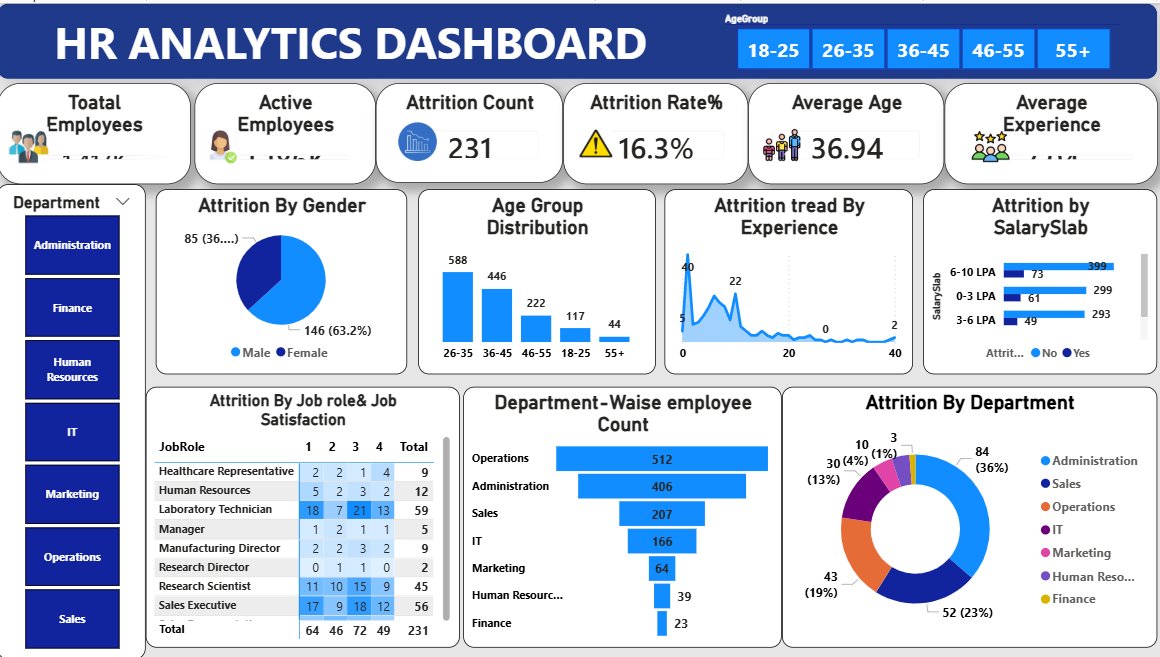

Layout of this report page (visuals, bound fields, positions):
{"tool":"powerbi","page":{"name":"Page 1","canvas":[1280,720],"ordinal":0},"visuals":[{"type":"textbox","box":[0,0,1274.3,84.3],"z":0},{"type":"cardVisual","title":"Toatal Employees","fields":{"Data":["CountNonNull(HR_Analytics-4.EmpID)"]},"box":[0,87.8,212.7,111.1],"z":1000},{"type":"cardVisual","title":"Active Employees","fields":{"Data":["CountNonNull(HR_Analytics-4.EmployeeCount)"]},"box":[216.8,87.8,199,111.1],"z":2000},{"type":"cardVisual","title":"Attrition Count","fields":{"Data":["Sum(HR_Analytics-4.attritionCount)"]},"box":[415.8,87.8,205.8,109.8],"z":3000},{"type":"cardVisual","title":"Attrition Rate%","fields":{"Data":["HR_Analytics-4.Attrition Rate%"]},"box":[621.6,87.8,203.1,111.1],"z":4000},{"type":"cardVisual","title":"Average Age","fields":{"Data":["Avg(HR_Analytics-4.Age)"]},"box":[824.7,87.8,215.4,111.1],"z":5000},{"type":"cardVisual","title":"Average Experience","fields":{"Data":["Avg(HR_Analytics-4.YearsatCompany)"]},"box":[1040,87.1,234.3,111.4],"z":6000},{"type":"image","box":[9.6,135.8,50.8,43.9],"z":7000},{"type":"image","box":[226.4,140,43.9,35.7],"z":8000},{"type":"image","box":[1058,137.2,65.9,41.2],"z":9000},{"type":"image","box":[639.5,135.8,35.7,37],"z":10000},{"type":"image","box":[841.2,133.1,41.2,45.3],"z":11000},{"type":"image","box":[440.5,126.2,42.5,52.1],"z":12000},{"type":"donutChart","title":"Attrition By Department","fields":{"Category":["HR_Analytics-4.Department"],"Y":["Sum(HR_Analytics-4.attritionCount)"]},"box":[861.8,421.3,411.7,286.8],"z":13000},{"type":"clusteredBarChart","title":"Attrition by SalarySlab","fields":{"Category":["HR_Analytics-4.SalarySlab"],"Y":["CountNonNull(HR_Analytics-4.EmpID)"],"Series":["HR_Analytics-4.Attrition"]},"box":[1016.8,204.5,256.6,203.1],"z":14000},{"type":"pivotTable","title":"Attrition By Job role& Job  Satisfaction","fields":{"Rows":["HR_Analytics-4.JobRole"],"Columns":["HR_Analytics-4.JobSatisfaction"],"Values":["Sum(HR_Analytics-4.attritionCount)"]},"box":[163.3,421.3,344.4,286.8],"z":15000},{"type":"columnChart","title":"Age Group  Distribution","fields":{"Category":["HR_Analytics-4.AgeGroup"],"Y":["Sum(HR_Analytics-4.EmployeeCount)"]},"box":[462.4,204.5,260.7,203.1],"z":16000},{"type":"pieChart","title":" Attrition By Gender","fields":{"Category":["HR_Analytics-4.Gender"],"Y":["Sum(HR_Analytics-4.attritionCount)"]},"box":[174.3,204.5,275.8,203.1],"z":17000},{"type":"areaChart","title":"Attrition tread By Experience","fields":{"Category":["HR_Analytics-4.TotalExperience(Years)"],"Y":["Sum(HR_Analytics-4.attritionCount)"]},"box":[732.8,204.5,273.1,203.1],"z":18000},{"type":"funnel","title":"Department-Waise employee Count","fields":{"Category":["HR_Analytics-4.Department"],"Y":["CountNonNull(HR_Analytics-4.EmpID)"]},"box":[511.8,421.3,349.9,286.8],"z":19000},{"type":"slicer","fields":{"Values":["HR_Analytics-4.Department"]},"box":[0,199,163.3,521.4],"z":20000},{"type":"slicer","fields":{"Values":["HR_Analytics-4.AgeGroup"]},"box":[786.3,5.5,459.7,74.1],"z":21000}]}

Visuals, with their boxes in screenshot pixels (x1, y1, x2, y2), scaled from the page's 1280x720 canvas onto the 1160x657 screenshot:
textbox: region(0, 0, 1155, 77)
"Toatal Employees" cardVisual: region(0, 80, 193, 181)
"Active Employees" cardVisual: region(196, 80, 377, 181)
"Attrition Count" cardVisual: region(377, 80, 563, 180)
"Attrition Rate%" cardVisual: region(563, 80, 747, 181)
"Average Age" cardVisual: region(747, 80, 943, 181)
"Average Experience" cardVisual: region(942, 79, 1155, 181)
image: region(9, 124, 55, 164)
image: region(205, 128, 245, 160)
image: region(959, 125, 1019, 163)
image: region(580, 124, 612, 158)
image: region(762, 121, 800, 163)
image: region(399, 115, 438, 163)
"Attrition By Department" donutChart: region(781, 384, 1154, 646)
"Attrition by SalarySlab" clusteredBarChart: region(921, 187, 1154, 372)
"Attrition By Job role& Job  Satisfaction" pivotTable: region(148, 384, 460, 646)
"Age Group  Distribution" columnChart: region(419, 187, 655, 372)
" Attrition By Gender" pieChart: region(158, 187, 408, 372)
"Attrition tread By Experience" areaChart: region(664, 187, 912, 372)
"Department-Waise employee Count" funnel: region(464, 384, 781, 646)
slicer - HR_Analytics-4.Department: region(0, 182, 148, 656)
slicer - HR_Analytics-4.AgeGroup: region(713, 5, 1129, 73)
